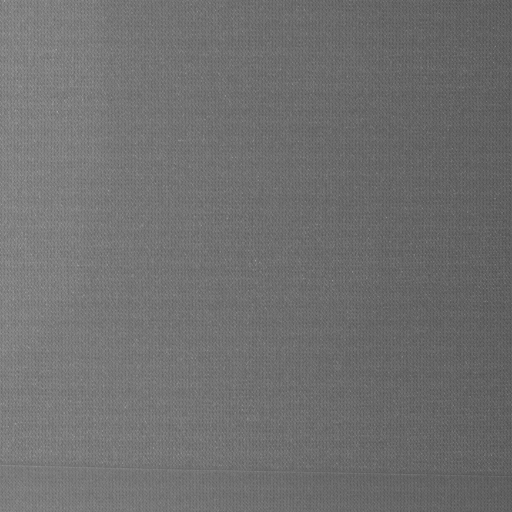defect: (1, 454, 512, 485)
